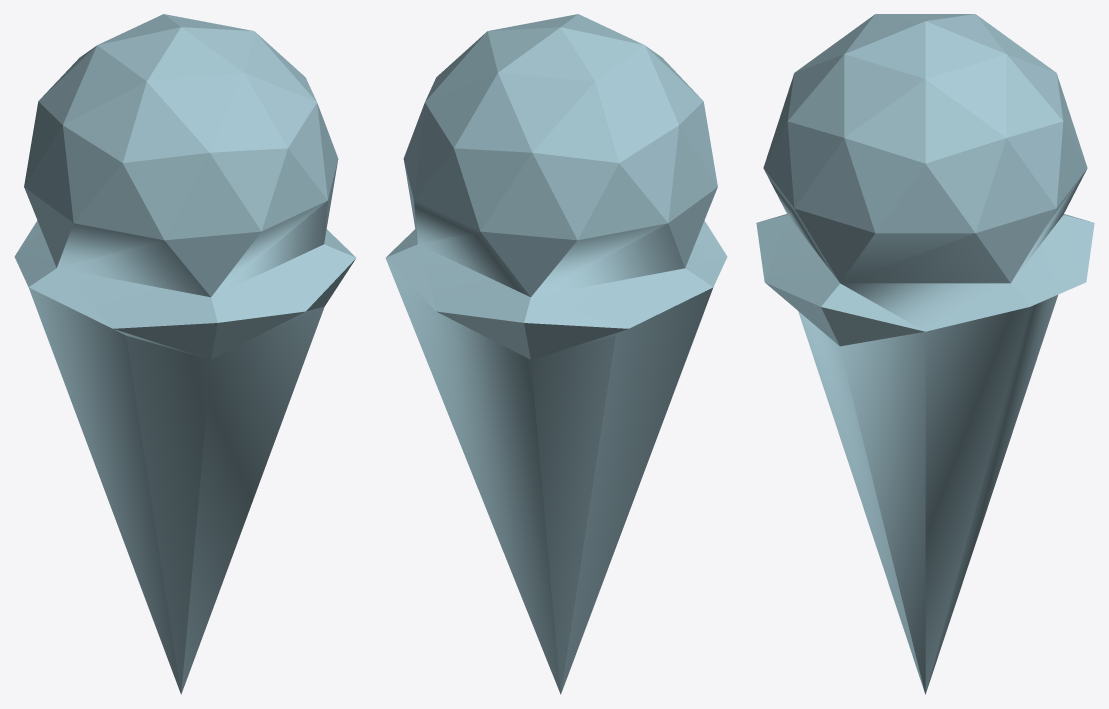
File: cc0-icecream-lod1.glb
The picture shows the model from 3 angles, left to right: view 1: azimuth 30°, elevation 25°; view 2: azimuth 150°, elevation 25°; view 3: azimuth 270°, elevation 25°; orthographic projection.
Visible parts, largest first — view 1: part_0; view 2: part_0; view 3: part_0.
Boxes of the visible parts, x1=… form: part_0: x1=14, y1=14, x2=356, y2=694; part_0: x1=385, y1=14, x2=727, y2=694; part_0: x1=756, y1=14, x2=1094, y2=694.
Bounding box in the file's own units: 0.8542 × 1.83 × 0.8327.
